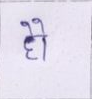i_matra: (31, 17, 52, 61)
